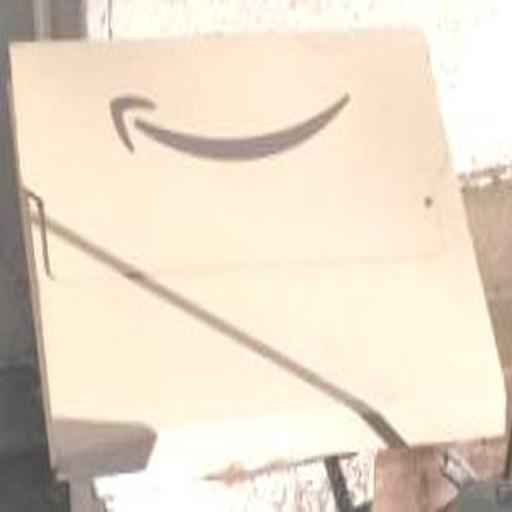Amazon: (22, 27, 491, 441)
